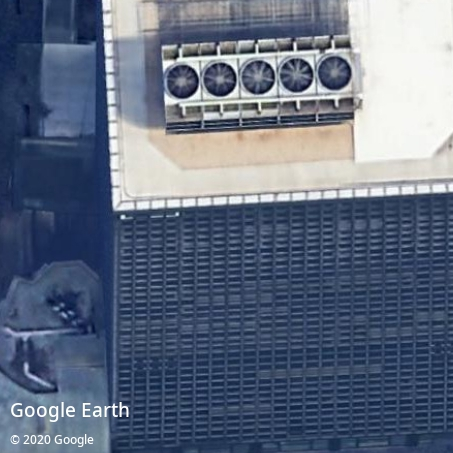Vent: (279, 57, 315, 94), (317, 54, 353, 91), (240, 59, 276, 95), (202, 62, 237, 97), (165, 64, 199, 99)
